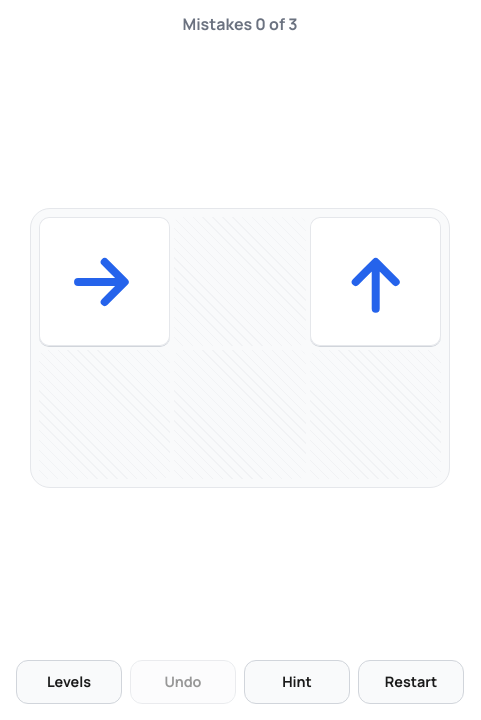
Scenario: PlayScreen: tapping › loses the level after three bumps and offers a retry
Click the button named "Arrow pointing right".
click(105, 282)  # box [39, 217, 170, 346]
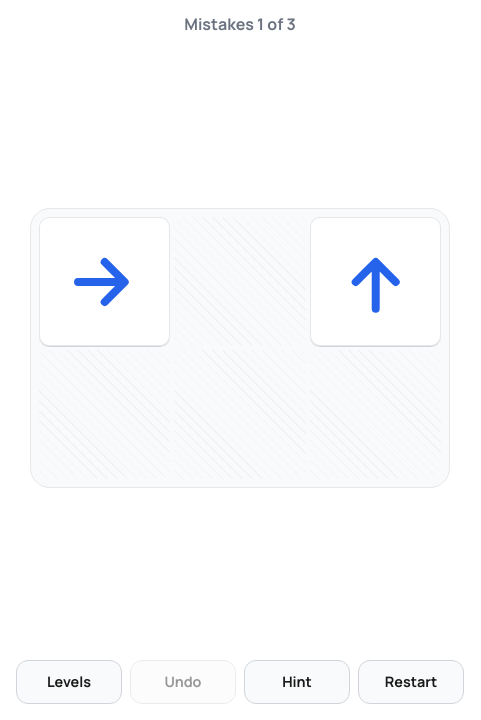
Click the button named "Arrow pointing right".
click(105, 282)  # box [39, 217, 170, 346]
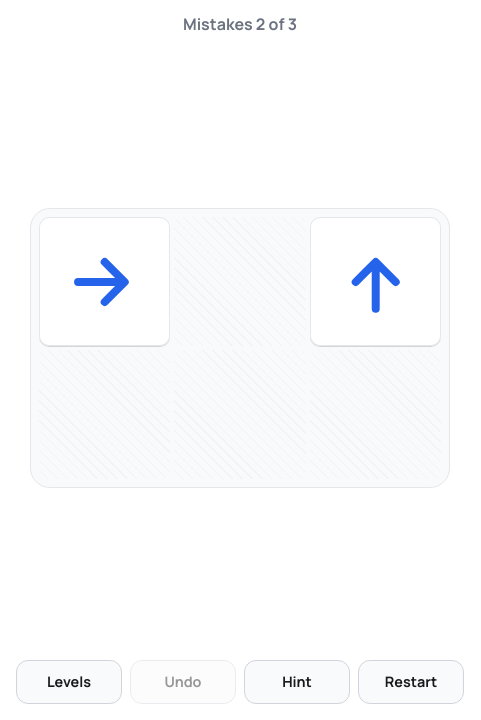
Click the button named "Arrow pointing right".
click(105, 282)  # box [39, 217, 170, 346]
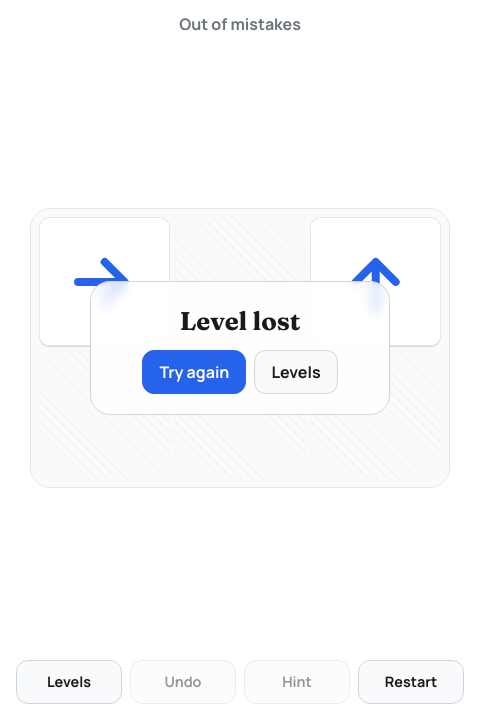
Check: the message reads "Out of mistakes", box [179, 13, 301, 35]
Check: the button "Try again" is shown, box [142, 350, 246, 394]
